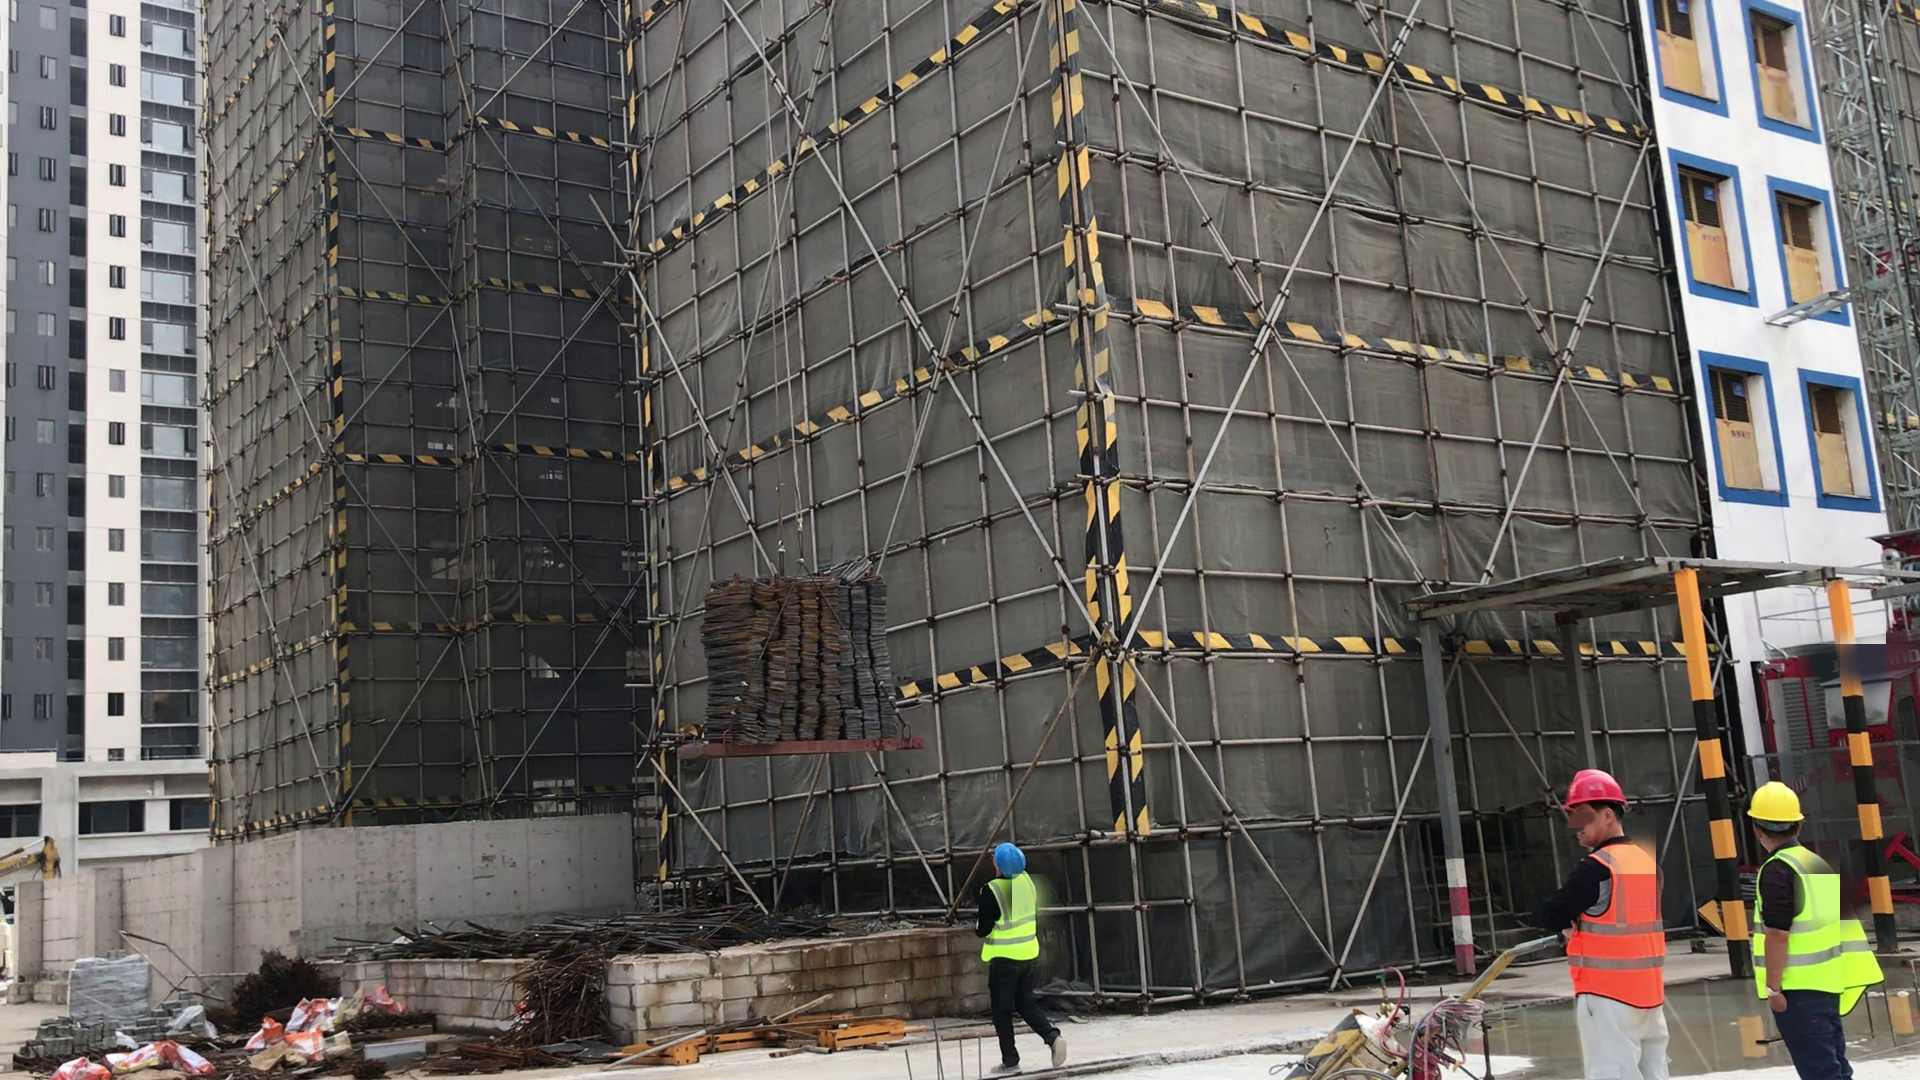helmet: (1746, 777, 1813, 823), (1561, 765, 1627, 808), (991, 842, 1036, 882)
person: (1738, 777, 1893, 1080), (1544, 762, 1670, 1080), (972, 837, 1074, 1080)
vest: (1755, 851, 1885, 1014), (1568, 837, 1671, 1015), (979, 873, 1044, 973)
